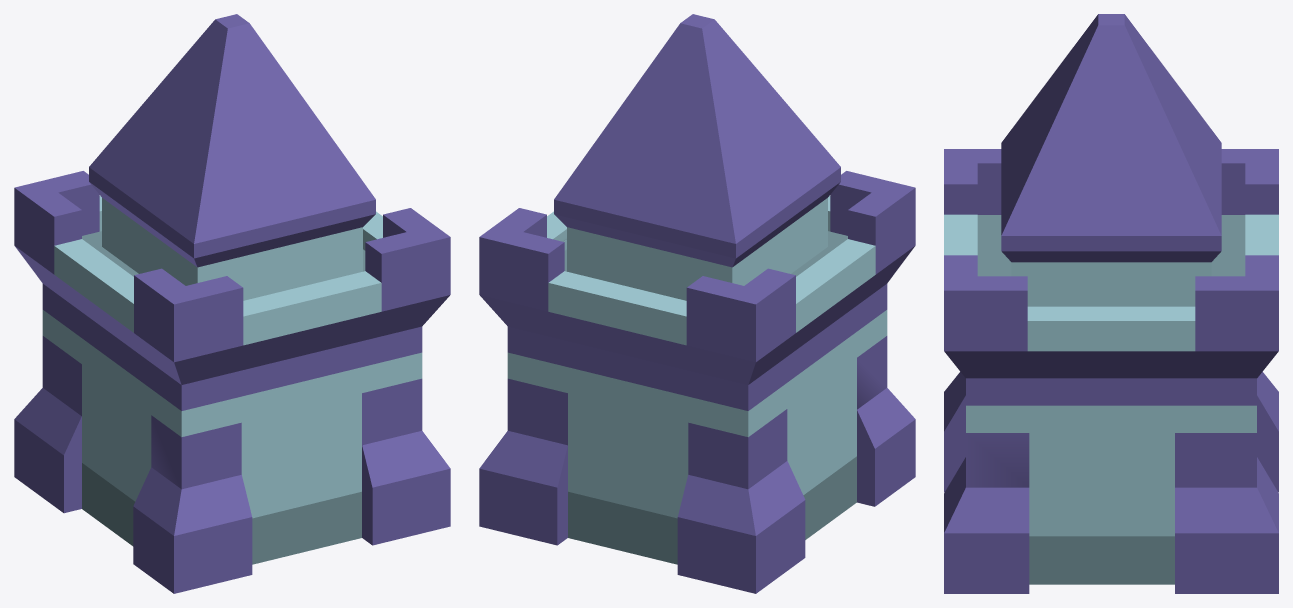
The model's file is towerSquare_sampleB.obj.
The picture shows the model from 3 angles, left to right: view 1: azimuth 30°, elevation 25°; view 2: azimuth 150°, elevation 25°; view 3: azimuth 270°, elevation 25°; orthographic projection. The views are drawn at different scales.
Visible parts, largest first — view 1: towerSquare_sampleB; view 2: towerSquare_sampleB; view 3: towerSquare_sampleB.
Boxes of the visible parts, x1,y1,x2,y2 form: towerSquare_sampleB: [14, 14, 450, 593]; towerSquare_sampleB: [479, 14, 915, 593]; towerSquare_sampleB: [944, 14, 1278, 593].
Size of the model in its own units: 1 by 1.66 by 1.
